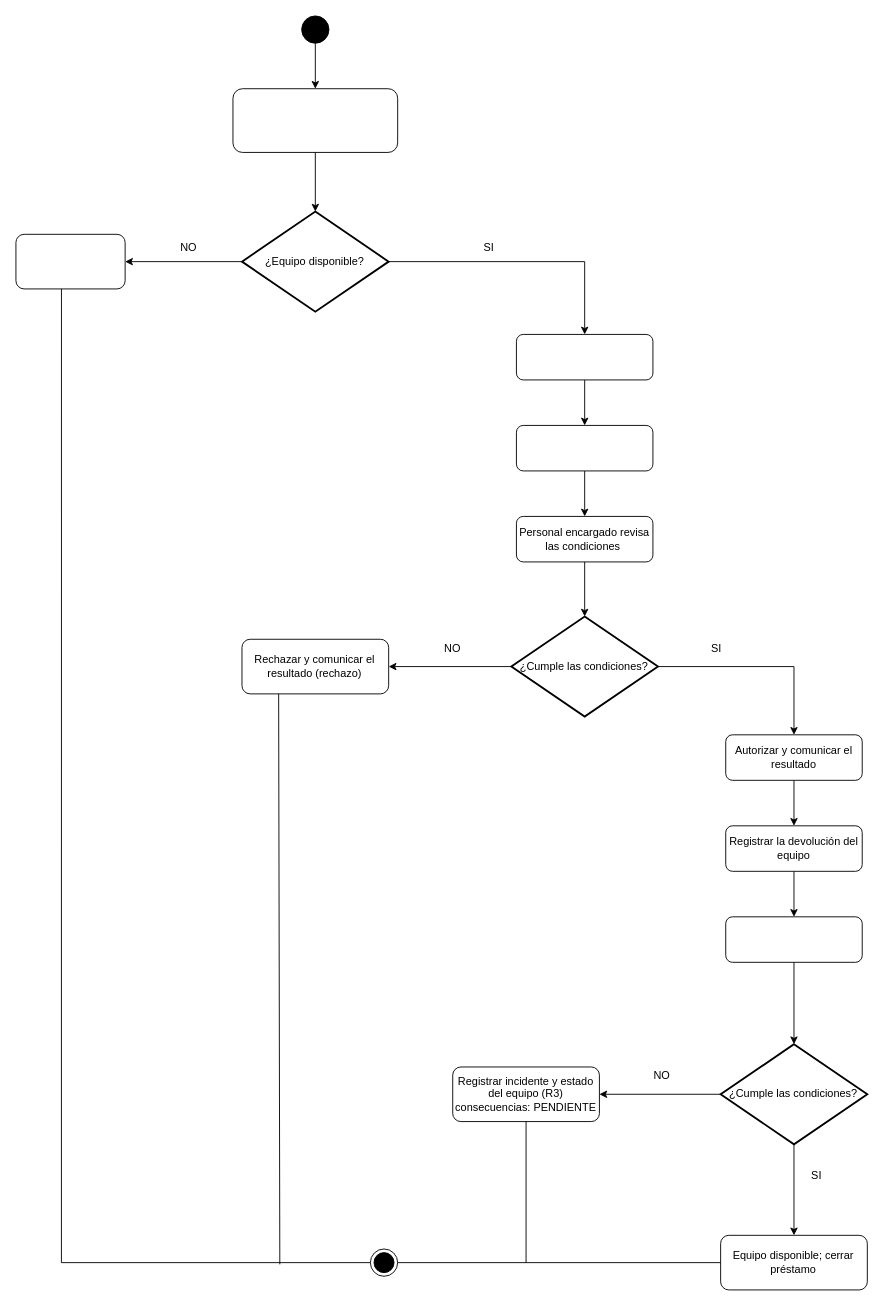
Some shapes in this 885 by 1306 pixel diagram are drawn without their labels. Each missing label, with the centre of its shape:
"Comunicar el estado de la solicitud" goes at (x=584, y=448).
"Informar falta de disponibilidad (R2)" goes at (x=70, y=261).
"Inspeccionar el estado del equipo" goes at (x=793, y=939).
"Registrar solicitud como pendiente de revisión" goes at (x=584, y=357).
"Solicitante consulta disponibilidad (tipo de equipo y fecha)" goes at (x=315, y=120).
